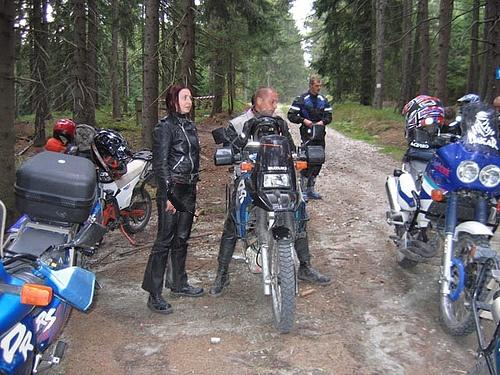tampered: (168, 182, 198, 217)
